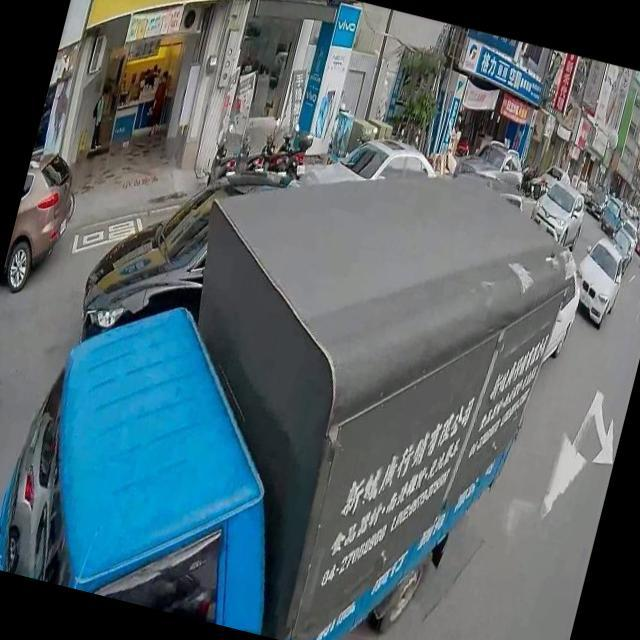person: (83, 76, 119, 156), (138, 73, 168, 140)
